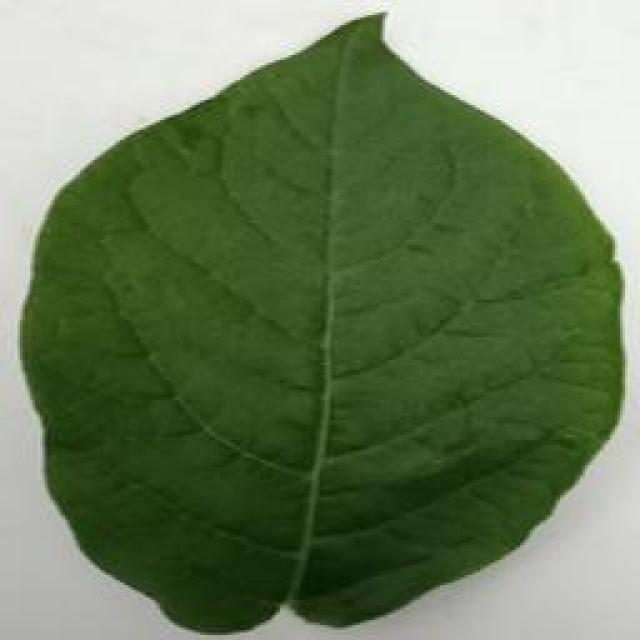Potato_Healthy: (22, 8, 619, 630)
